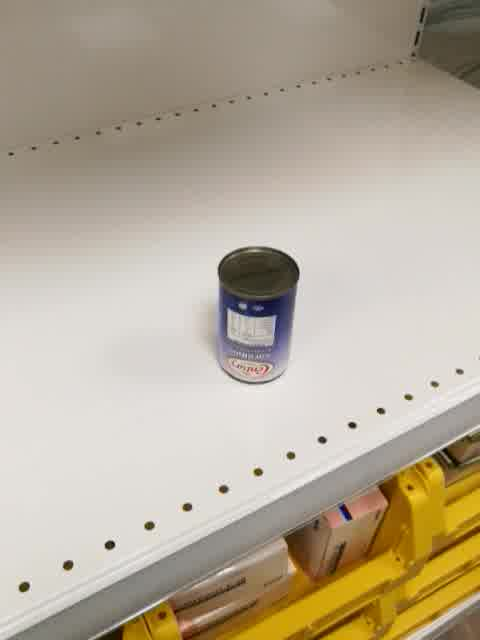sardine: (216, 244, 301, 386)
